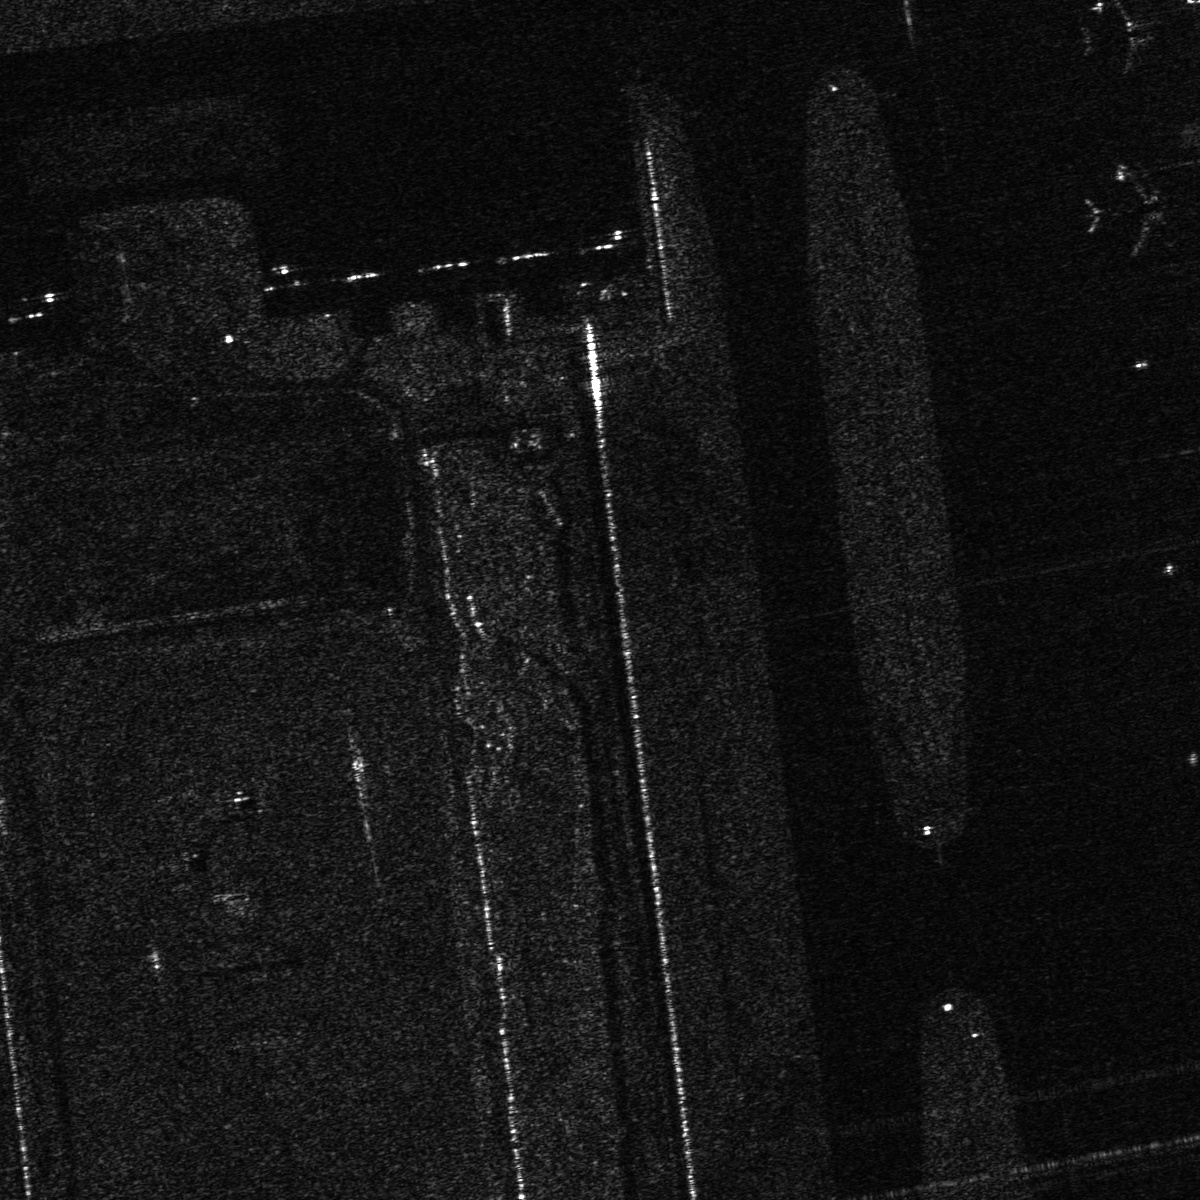Boeing787: (1074, 154, 1188, 266)
